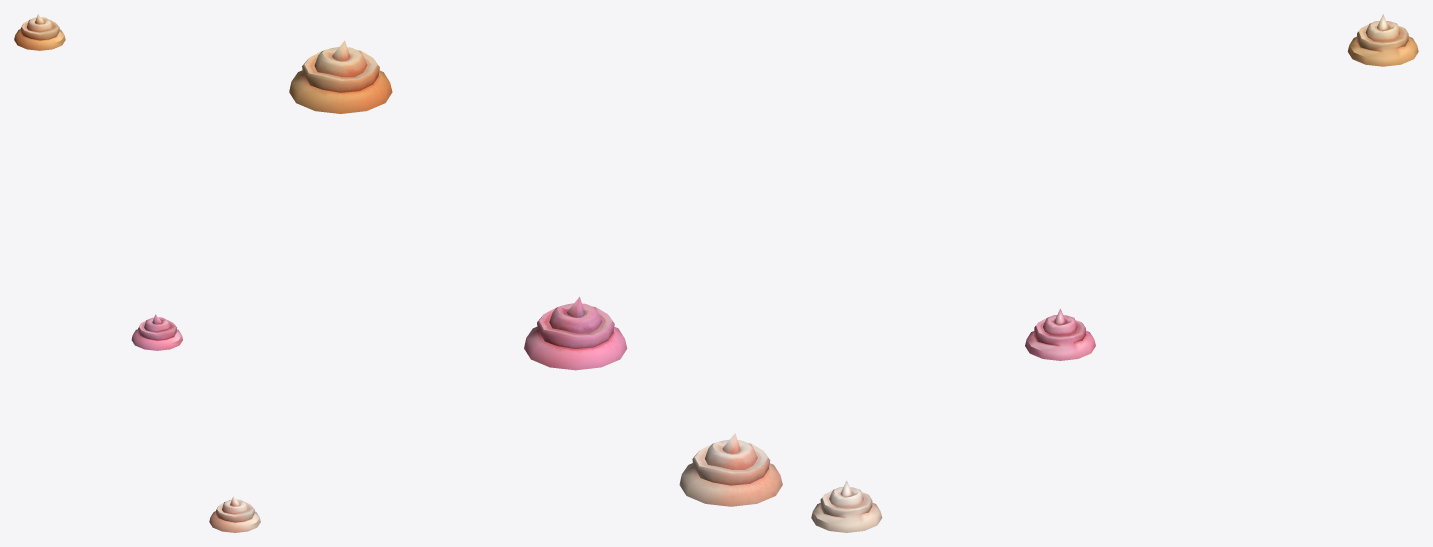
File: whipcream.fbx
3 renders of one model, left to right at view 1: azimuth 30°, elevation 25°; view 2: azimuth 150°, elevation 25°; view 3: azimuth 270°, elevation 25°, orthographic. The views are drawn at different scales.
Parts seen in each view (by area): view 1: yellow_cream_5, white_cream_5, pink_cream_5; view 2: white_cream_5, yellow_cream_5, pink_cream_5; view 3: white_cream_5, pink_cream_5, yellow_cream_5.
Boxes of the visible parts, <box> form: yellow_cream_5: <box>14,14,65,50</box>; white_cream_5: <box>209,496,260,532</box>; pink_cream_5: <box>131,314,182,350</box>; white_cream_5: <box>679,433,782,506</box>; yellow_cream_5: <box>289,40,392,113</box>; pink_cream_5: <box>524,296,627,370</box>; white_cream_5: <box>811,480,882,532</box>; pink_cream_5: <box>1025,308,1095,360</box>; yellow_cream_5: <box>1347,14,1418,66</box>.
Size of the model in its own units: 69.18 by 540 by 592.
Materials: 3 (3 with a texture image).
